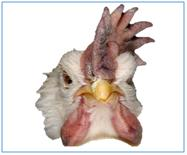AbNormal: (80, 4, 154, 80)
